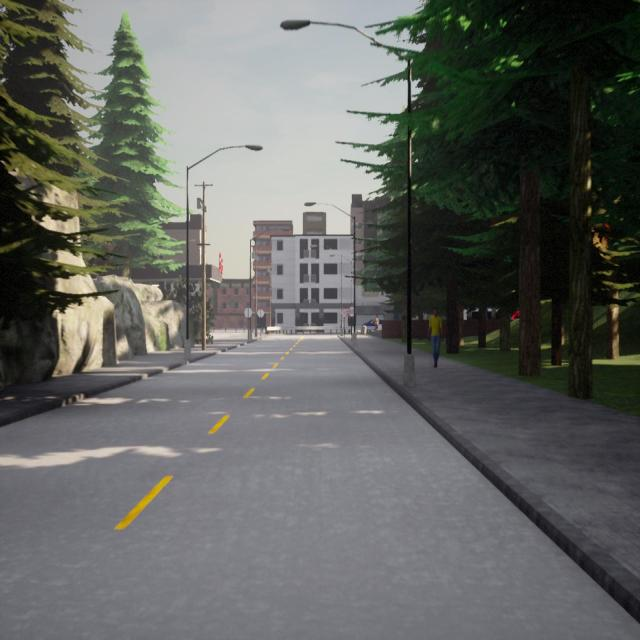Pedestrian: (427, 308, 443, 367), (374, 314, 378, 332)
Traffic_Signs: (244, 308, 253, 318), (257, 309, 264, 318), (341, 308, 347, 318), (348, 307, 354, 317)
Vehicle: (361, 318, 382, 328)
